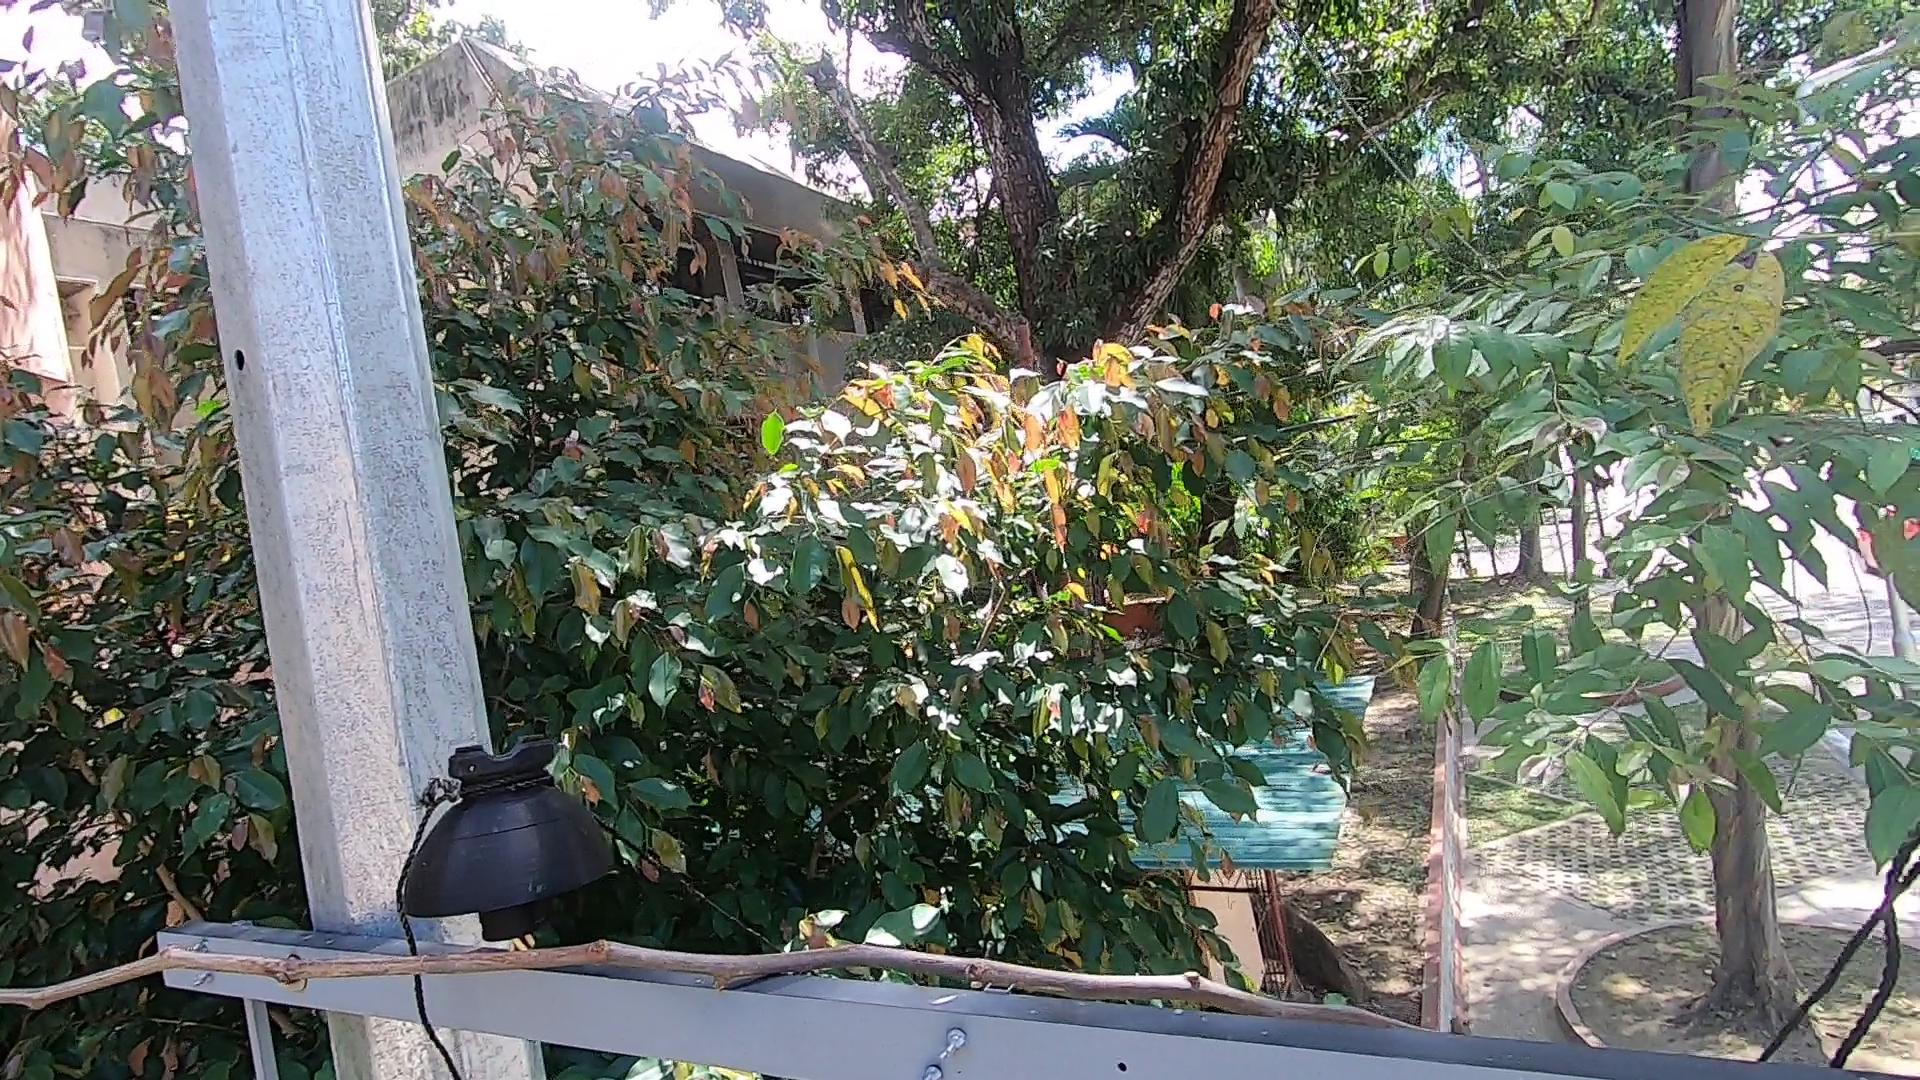tree branch: (1, 936, 1476, 1054)
